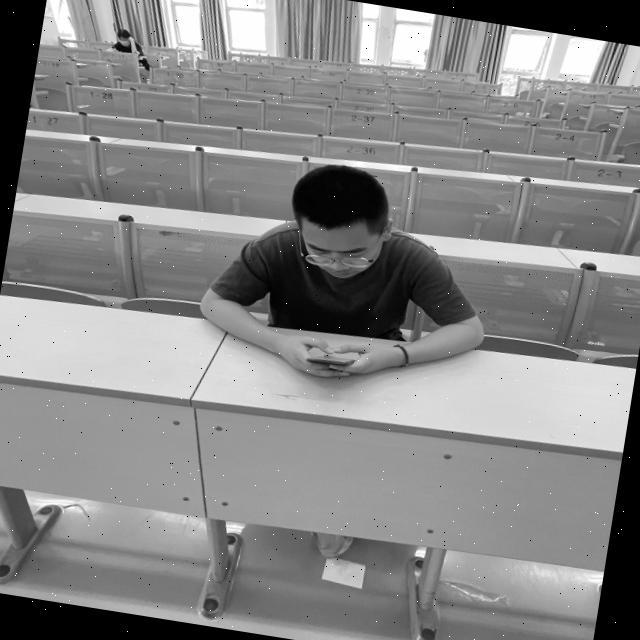phone: (190, 151, 509, 402)
